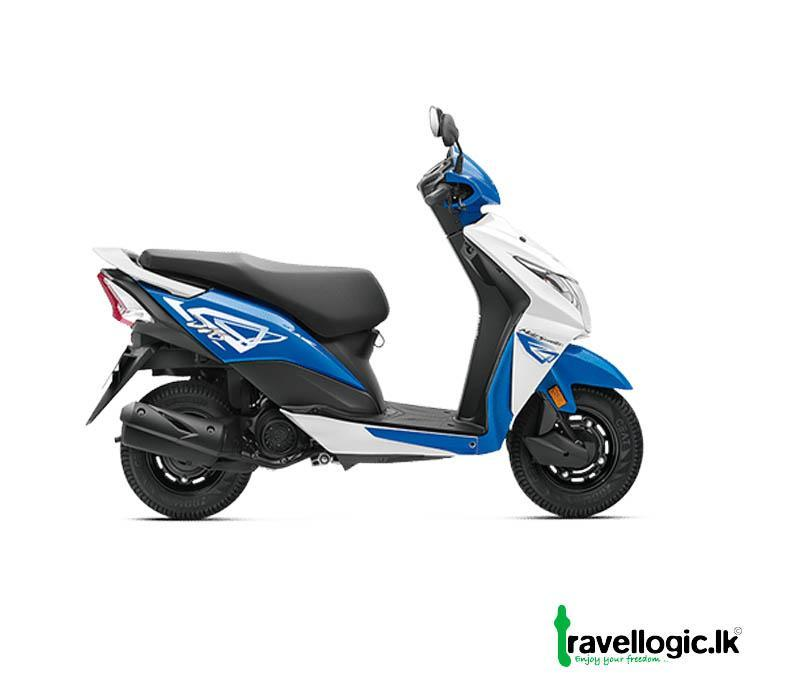motorbike: (85, 105, 644, 521)
